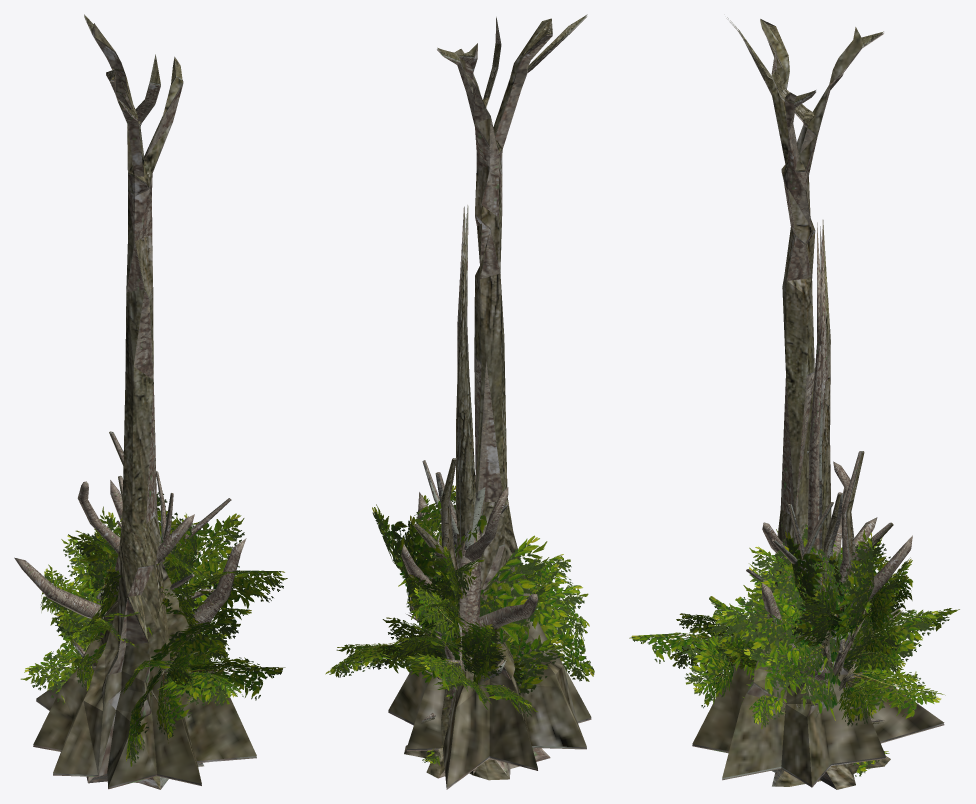
Rendered from SourceMeshes.fbx.
3 views of the same model, side by side, from view 1: azimuth 30°, elevation 25°; view 2: azimuth 150°, elevation 25°; view 3: azimuth 270°, elevation 25° (orthographic).
Visible parts, largest first — view 1: _trunk_jungle1_v3, _trunk_jungle1_v1, _foliage3_v3, _trunk_branching_v1, _foliage5_v3, _foliage5_v2, _foliage3_v1, _foliage5_v1, _foliage3_v2, _trunk_jungle1_v2, _foliage2_v1, _foliage4_v2 (+8 smaller); view 2: _trunk_jungle1_v3, _trunk_jungle1_v1, _trunk_branching_v1, _foliage1_v3, _foliage2_v3, _foliage2_v2, _foliage1_v1, _foliage2_v1, _foliage5_v3, _foliage3_v3, _trunk_jungle2_v3, _trunk_tall1_v3 (+11 smaller); view 3: _trunk_jungle1_v3, _foliage5_v1, _foliage5_v3, _trunk_jungle1_v1, _foliage3_v3, _foliage2_v3, _trunk_branching_v1, _foliage3_v1, _foliage4_v3, _foliage2_v2, _trunk_jungle2_v1, _foliage5_v2 (+13 smaller).
Part boxes in pixels (x1,y1,x2,y2): _trunk_jungle1_v3: (33,14,256,787); _trunk_jungle1_v1: (33,17,256,789); _foliage3_v3: (102,598,282,761); _trunk_branching_v1: (14,480,246,634); _foliage5_v3: (75,510,284,645); _foliage5_v2: (68,502,287,646); _foliage3_v1: (103,598,282,762); _foliage5_v1: (77,492,283,647); _foliage3_v2: (99,602,285,766); _trunk_jungle1_v2: (33,16,256,788); _foliage2_v1: (40,517,204,695); _foliage4_v2: (20,531,120,702); _trunk_jungle1_v3: (388,14,591,787); _trunk_jungle1_v1: (388,17,591,789); _trunk_branching_v1: (401,475,538,717); _foliage1_v3: (425,535,563,692); _foliage2_v3: (325,546,520,723); _foliage2_v2: (329,545,525,721); _foliage1_v1: (430,543,559,693); _foliage2_v1: (330,552,524,721); _foliage5_v3: (372,485,551,664); _foliage3_v3: (507,554,594,676); _trunk_jungle2_v3: (441,205,468,747); _trunk_tall1_v3: (459,207,476,547); _trunk_jungle1_v3: (692,17,944,785); _foliage5_v1: (726,523,881,682); _foliage5_v3: (721,527,878,682); _trunk_jungle1_v1: (692,18,943,787); _foliage3_v3: (631,596,790,724); _foliage2_v3: (839,556,956,724); _trunk_branching_v1: (762,461,912,681); _foliage3_v1: (631,594,791,727); _foliage4_v3: (845,559,939,687); _foliage2_v2: (838,540,959,722); _trunk_jungle2_v1: (807,222,821,592); _foliage5_v2: (716,526,882,682).
Size of the model in its own units: 617 by 2054 by 857.
